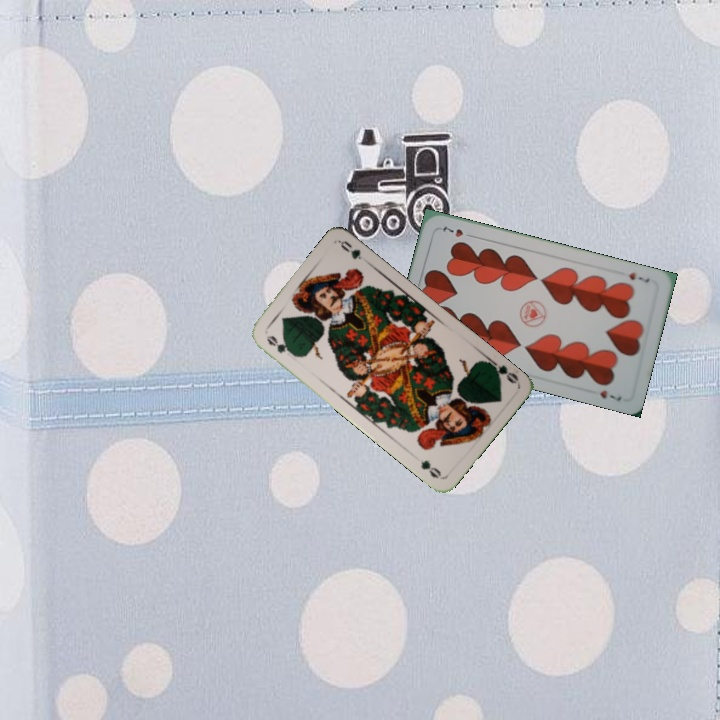GO: (483, 355, 521, 386), (262, 331, 297, 359)
H7: (625, 268, 652, 285)
